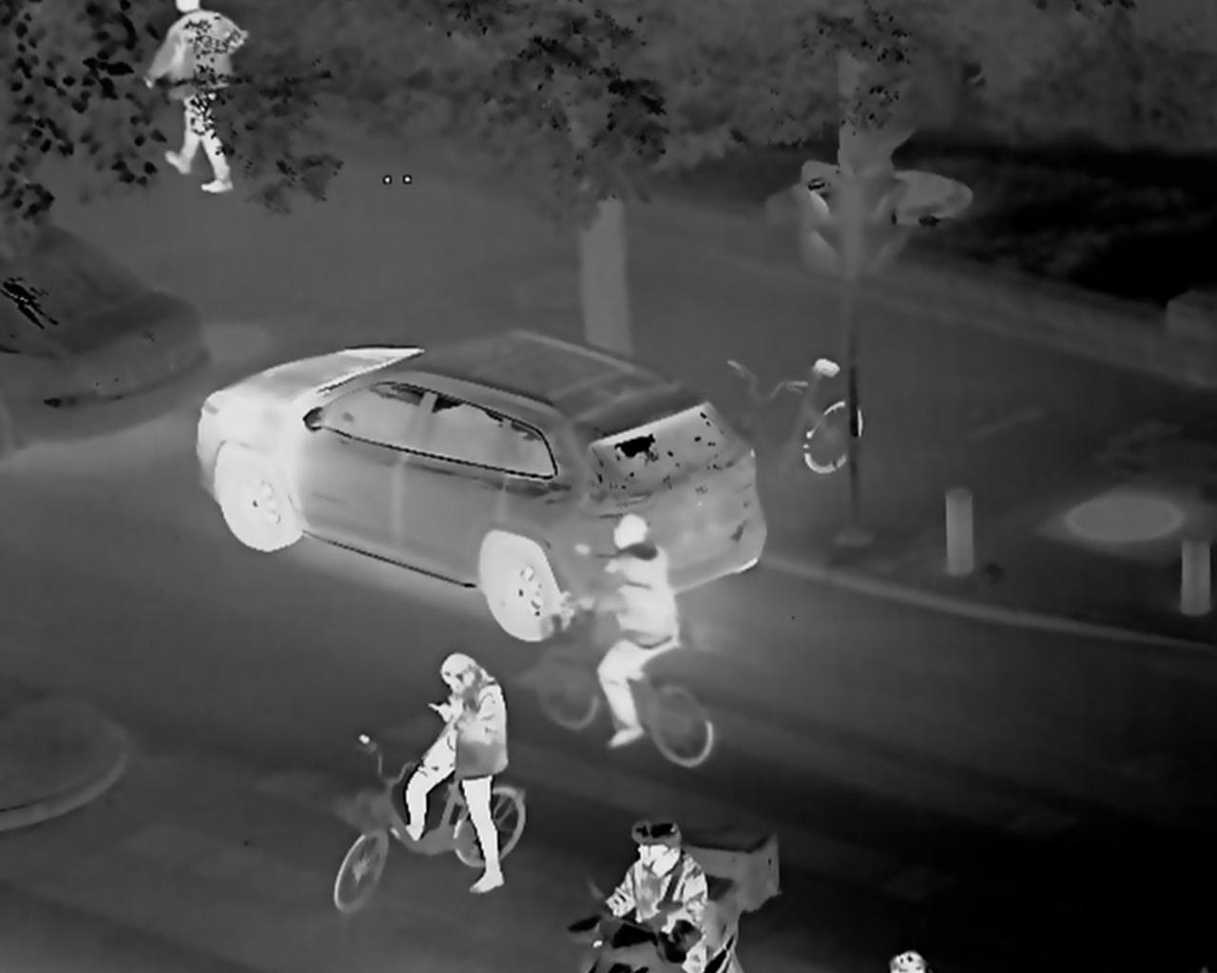person: (386, 652, 507, 899), (569, 514, 678, 754), (587, 819, 706, 973)
